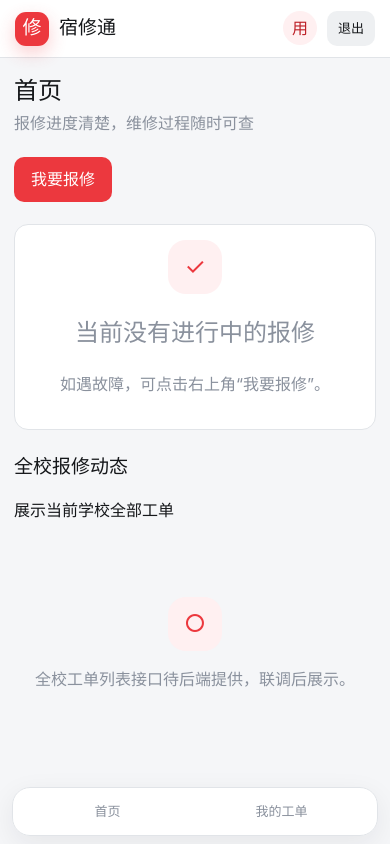
it: 学生首页 › 点击我要报修打开报修弹窗
What coordinates should you click on to do the following:
click the button with class "student-repair-trigger"
I would click on:
 (63, 179)
Its box is [14,157,112,202].
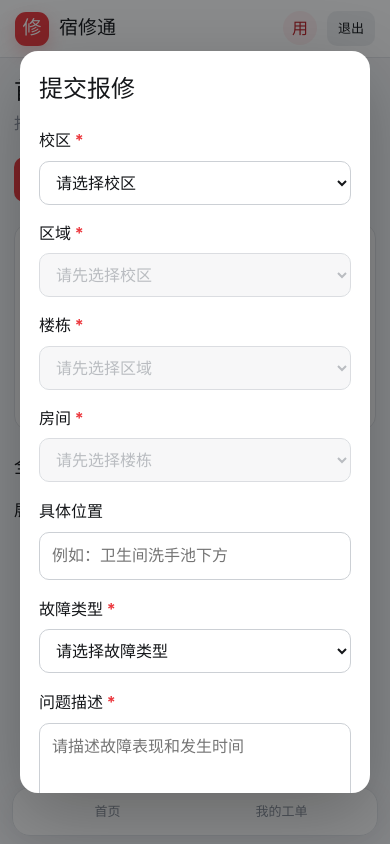
Result: the dialog with class "modal" is shown
Result: the heading "提交报修" is shown at [39,74,135,103]
